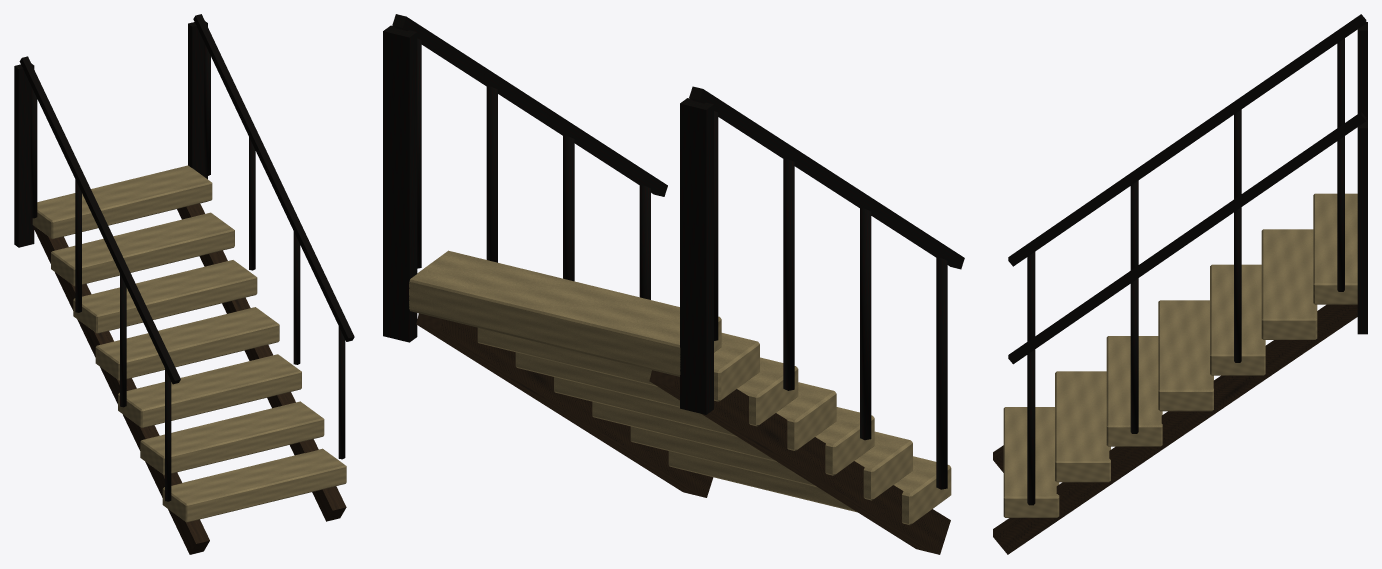
Rendered from exterior_stair.glb.
3 renders of one model, left to right at view 1: azimuth 30°, elevation 25°; view 2: azimuth 150°, elevation 25°; view 3: azimuth 270°, elevation 25°, orthographic. The views are drawn at different scales.
Parts seen in each view (by area): view 1: exterior_stair; view 2: exterior_stair; view 3: exterior_stair.
Part boxes in pixels (x1=…): exterior_stair: x1=14, y1=14, x2=354, y2=554; exterior_stair: x1=383, y1=14, x2=964, y2=554; exterior_stair: x1=993, y1=14, x2=1367, y2=554.
Bounding box in the file's own units: 1.22 × 2.39 × 1.82.
1 material, 1 textured.
